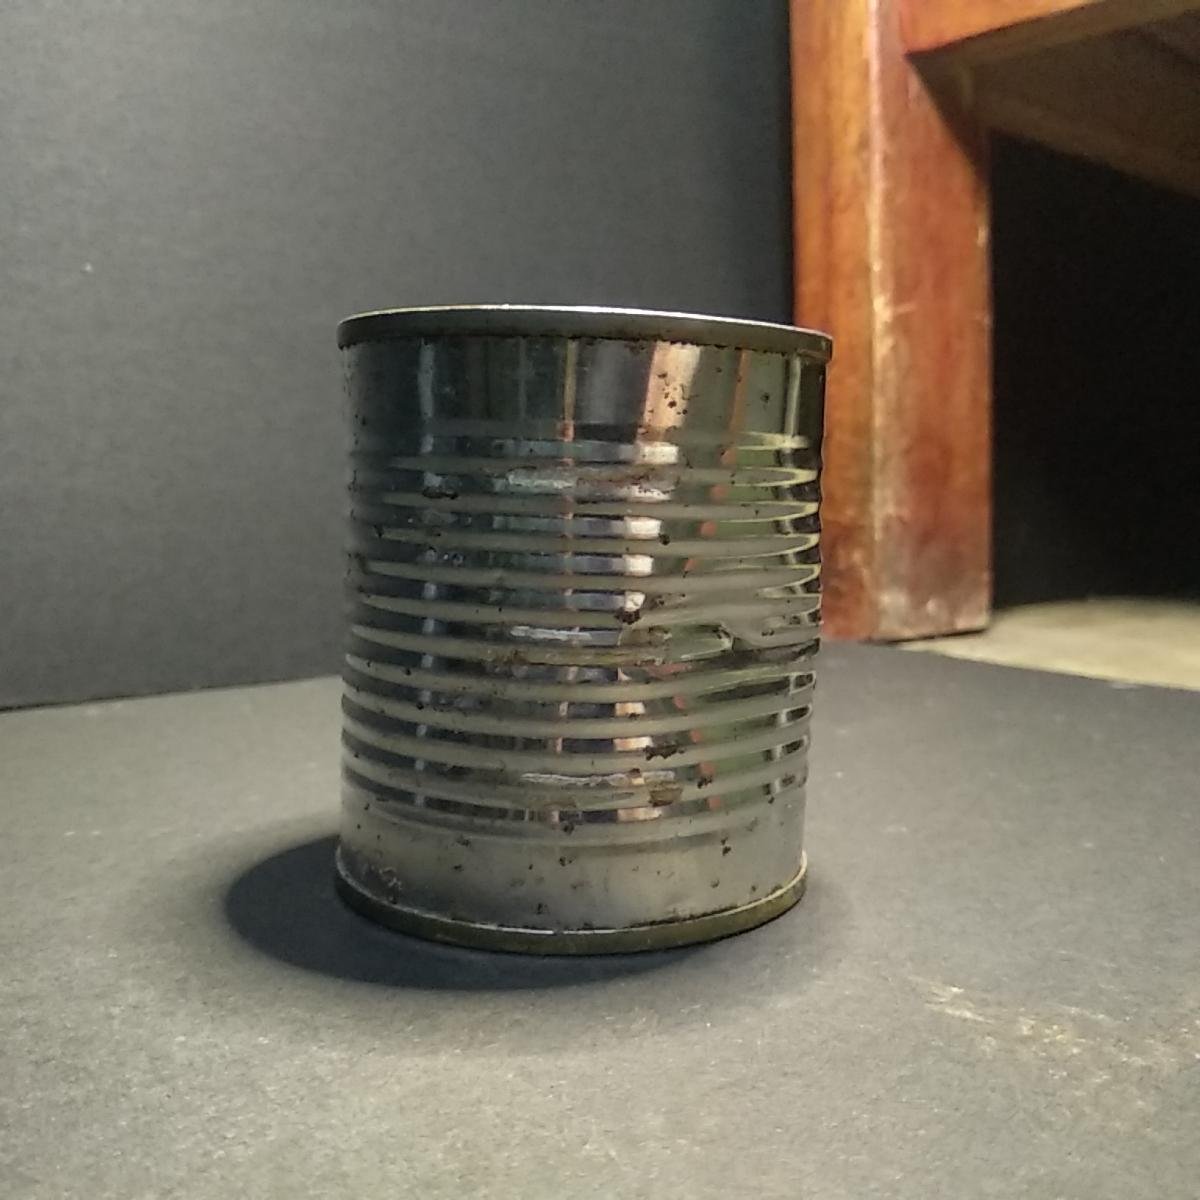Dented: (322, 292, 844, 956)
